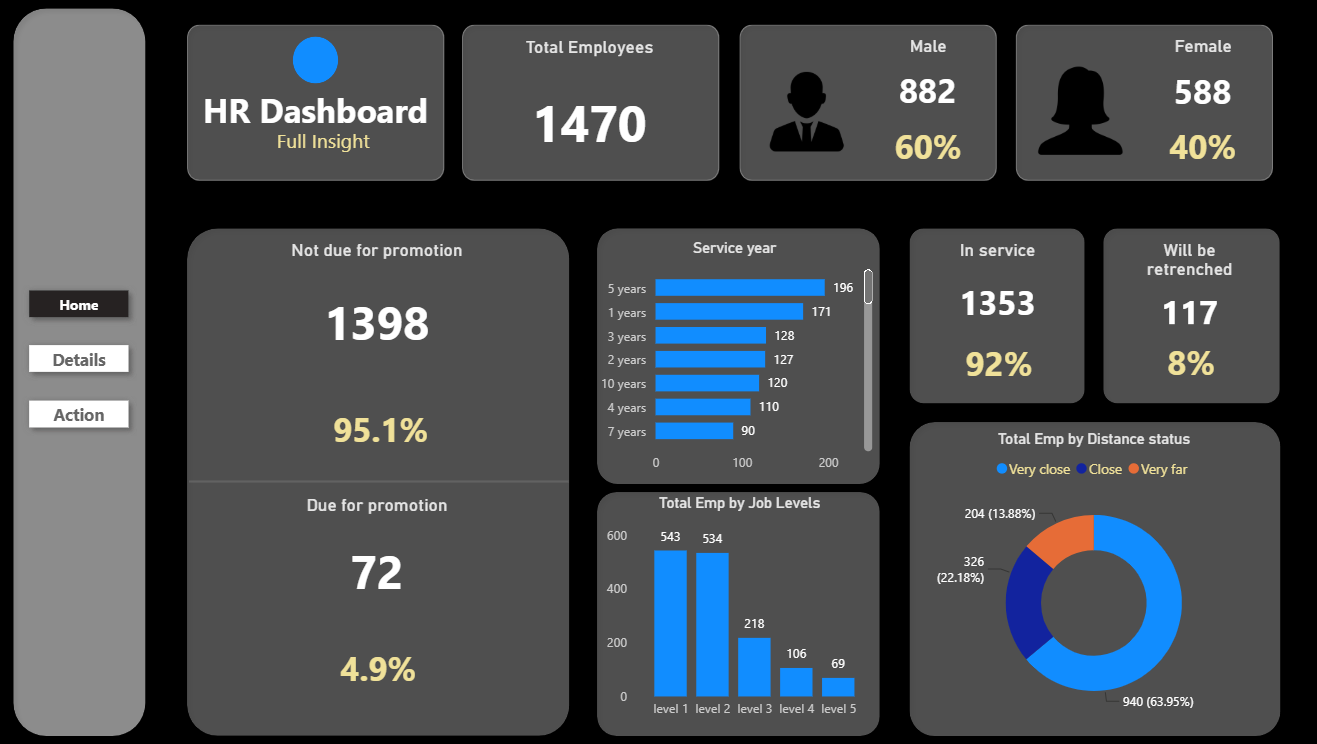

This screenshot's page, from the dashboard's own definition file:
{"tool":"powerbi","page":{"name":"Home","canvas":[1280,720],"ordinal":0},"visuals":[{"type":"shape","box":[9.7,0,145.5,720.4],"z":0,"group":"g1"},{"type":"shape","box":[177,15.1,266.2,168.8],"z":0},{"type":"shape","box":[177,212.7,387,507.7],"z":1000},{"type":"shape","box":[573.6,212.7,290.9,264.8],"z":2000},{"type":"shape","box":[573.1,466.9,290.8,253.4],"z":3000},{"type":"shape","box":[874.7,212.3,187,187],"z":4000},{"type":"shape","box":[1061.7,212.3,188.2,187],"z":5000},{"type":"shape","box":[874.1,399.3,376,321.1],"z":6000},{"type":"textbox","box":[188,81,244.3,56.3],"z":7000},{"type":"shape","box":[443.2,15.1,266.2,168.8],"z":8000},{"type":"shape","box":[710.8,15.1,266.2,168.8],"z":9000},{"type":"shape","box":[977,15.1,266.2,168.8],"z":10000},{"type":"shape","box":[288.2,35.7,43.9,45.3],"z":11000},{"type":"textbox","box":[238.8,119.4,157.8,37],"z":12000},{"type":"cardVisual","title":"Total Employees","fields":{"Data":["new measures.Total Emp"]},"box":[458.4,36.2,232.8,126.7],"z":13000},{"type":"cardVisual","title":"Male","fields":{"Data":["new measures.Male"]},"box":[844.5,35,114.6,84.5],"z":14000},{"type":"cardVisual","fields":{"Data":["new measures.% Male"]},"box":[844.5,108.6,114.6,63.9],"z":15000},{"type":"image","box":[745.6,66.4,77.2,84.5],"z":16000},{"type":"cardVisual","title":"Female","fields":{"Data":["new measures.Female"]},"box":[1109.9,35,114.6,85.7],"z":17000},{"type":"image","box":[1003.8,47.1,89.3,121.9],"z":18000},{"type":"cardVisual","fields":{"Data":["new measures.% On service"]},"box":[902.4,318.5,135.1,63.9],"z":19000},{"type":"cardVisual","title":"Due for promotion","fields":{"Data":["new measures.Due for promotion"]},"box":[253.4,477.8,232.8,126.7],"z":20000},{"type":"cardVisual","fields":{"Data":["new measures.% Due for promotion"]},"box":[300.4,612.9,141.2,63.9],"z":21000},{"type":"cardVisual","title":"Not due for promotion","fields":{"Data":["new measures.Not Due for promotion"]},"box":[253.4,231.6,232.8,138.7],"z":22000},{"type":"cardVisual","fields":{"Data":["new measures.% Not Due for promotion"]},"box":[288.3,382.4,170.1,63.9],"z":23000},{"type":"shape","box":[188.2,430.7,366.8,70],"z":24000},{"type":"clusteredBarChart","title":"Service year","fields":{"Category":["HR Analytics Data.service year"],"Y":["new measures.Total Emp"]},"box":[576.7,231.6,276.3,234],"z":25000},{"type":"columnChart","fields":{"Category":["HR Analytics Data.Job Levels"],"Y":["new measures.Total Emp"]},"box":[586.3,477.8,266.6,225.6],"z":26000},{"type":"cardVisual","title":"In service","fields":{"Data":["new measures.On service"]},"box":[889.1,231.6,159.3,100.1],"z":27000},{"type":"cardVisual","fields":{"Data":["new measures.% Female"]},"box":[1099.1,108.6,135.1,63.9],"z":28000},{"type":"cardVisual","fields":{"Data":["new measures.% Will be retrenched"]},"box":[1077.4,317.3,156.8,63.9],"z":29000},{"type":"cardVisual","title":"Will be retrenched","fields":{"Data":["new measures.Will be retrenched"]},"box":[1083.4,231.6,141.2,100.1],"z":30000},{"type":"donutChart","fields":{"Category":["HR Analytics Data.Distance status"],"Y":["new measures.Total Emp"]},"box":[889.1,416.2,345,287.1],"z":31000},{"type":"group","id":"g1","title":"Group 1","box":[9.7,0,146,720.2],"z":32000},{"type":"pageNavigator","box":[25.3,272.7,113.4,150.8],"z":33000}]}

Visuals, with their boxes in screenshot pixels (x1, y1, x2, y2), scaled from the page's 1280x720 canvas onto the 1317x744 screenshot:
shape: BBox(10, 0, 160, 743)
shape: BBox(182, 16, 456, 190)
shape: BBox(182, 220, 580, 743)
shape: BBox(590, 220, 889, 493)
shape: BBox(590, 482, 889, 743)
shape: BBox(900, 219, 1092, 413)
shape: BBox(1092, 219, 1286, 413)
shape: BBox(899, 413, 1286, 743)
textbox: BBox(193, 84, 445, 142)
shape: BBox(456, 16, 730, 190)
shape: BBox(731, 16, 1005, 190)
shape: BBox(1005, 16, 1279, 190)
shape: BBox(297, 37, 342, 84)
textbox: BBox(246, 123, 408, 162)
"Total Employees" cardVisual: BBox(472, 37, 711, 168)
"Male" cardVisual: BBox(869, 36, 987, 123)
cardVisual - new measures.% Male: BBox(869, 112, 987, 178)
image: BBox(767, 69, 847, 156)
"Female" cardVisual: BBox(1142, 36, 1260, 125)
image: BBox(1033, 49, 1125, 175)
cardVisual - new measures.% On service: BBox(928, 329, 1067, 395)
"Due for promotion" cardVisual: BBox(261, 494, 500, 625)
cardVisual - new measures.% Due for promotion: BBox(309, 633, 454, 699)
"Not due for promotion" cardVisual: BBox(261, 239, 500, 383)
cardVisual - new measures.% Not Due for promotion: BBox(297, 395, 472, 461)
shape: BBox(194, 445, 571, 517)
"Service year" clusteredBarChart: BBox(593, 239, 878, 481)
columnChart - HR Analytics Data.Job Levels x new measures.Total Emp: BBox(603, 494, 878, 727)
"In service" cardVisual: BBox(915, 239, 1079, 343)
cardVisual - new measures.% Female: BBox(1131, 112, 1270, 178)
cardVisual - new measures.% Will be retrenched: BBox(1109, 328, 1270, 394)
"Will be retrenched" cardVisual: BBox(1115, 239, 1260, 343)
donutChart - HR Analytics Data.Distance status x new measures.Total Emp: BBox(915, 430, 1270, 727)
"Group 1" group: BBox(10, 0, 160, 743)
pageNavigator: BBox(26, 282, 143, 438)
